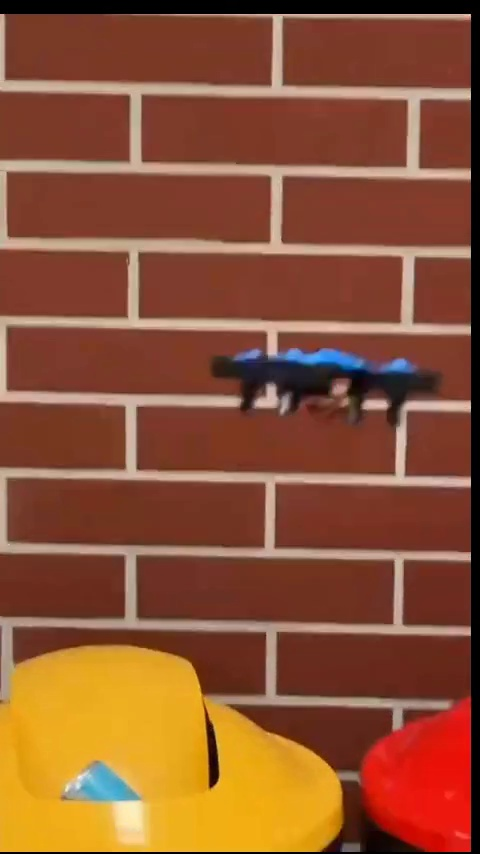drone: (210, 350, 434, 428)
